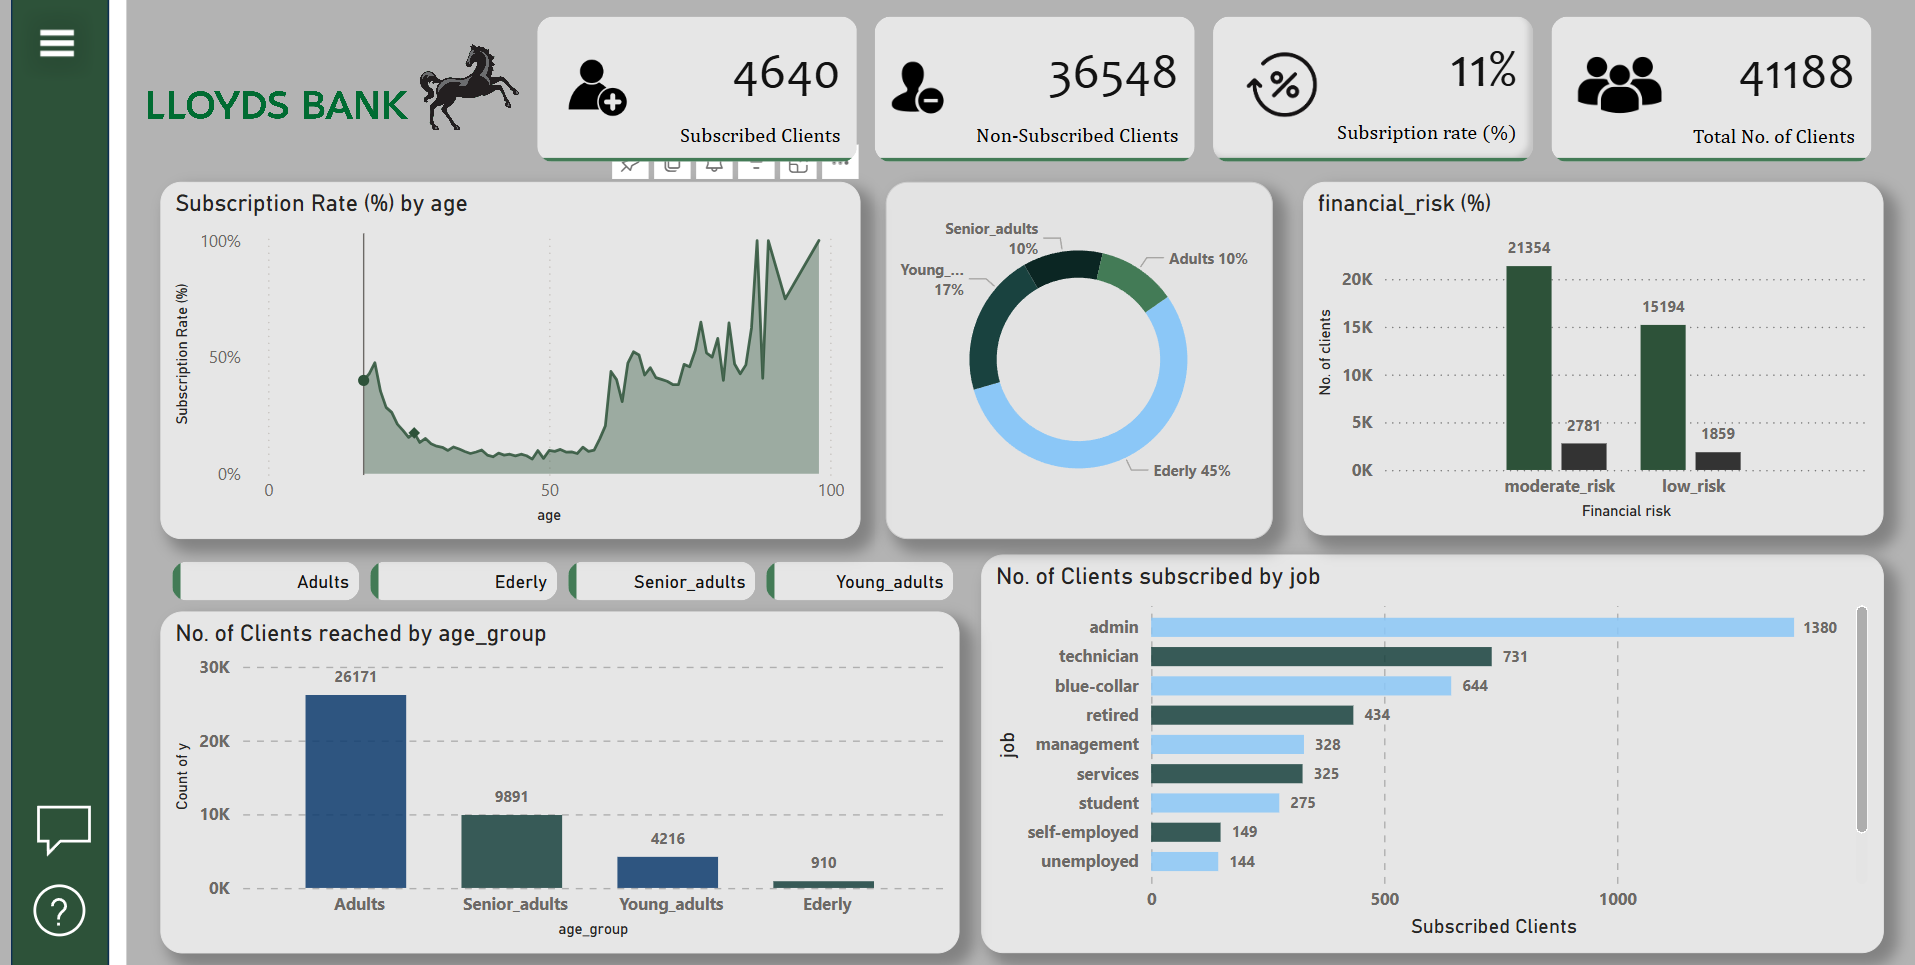

This screenshot's page, from the dashboard's own definition file:
{"tool":"powerbi","page":{"name":"Client_over_view","canvas":[1370,700],"ordinal":0},"visuals":[{"type":"shape","title":"side bar","box":[0,0,70.7,719.1],"z":0,"group":"g3"},{"type":"pieChart","fields":{"Y":["subscriptions.Subscription Rate (%)"],"Category":["bank_marketing_campaign.age_group"]},"box":[631.5,133.9,279.3,257.5],"z":0,"group":"g2"},{"type":"clusteredBarChart","title":"No. of Clients subscribed by job","fields":{"Category":["bank_marketing_campaign.job"],"Y":["subscriptions.Subscribed Clients"]},"box":[700,402.4,651.1,287.5],"z":0,"group":"g1"},{"type":"actionButton","title":"Menu button","box":[0,0,70,66.9],"z":1000,"group":"g3"},{"type":"advancedSlicerVisual","fields":{"Values":["bank_marketing_campaign.age_group"]},"box":[111,402.4,575.3,38.4],"z":1000,"group":"g1"},{"type":"shape","title":"sb2","box":[71.3,0,12.1,699.7],"z":2000,"group":"g3"},{"type":"lineChart","fields":{"Y":["subscriptions.Subscription Rate (%)"],"Category":["bank_marketing_campaign.age"]},"box":[108.2,134.1,504.9,257.5],"z":3000,"group":"g2"},{"type":"actionButton","title":"Ques & Ans","box":[13.3,575.9,50.1,52.6],"z":3000,"group":"g3"},{"type":"group","id":"g1","title":"Group 2","box":[108.2,402.4,1242.9,287.5],"z":3750},{"type":"clusteredColumnChart","title":"No. of Clients reached by age_group","fields":{"Y":["CountNonNull(subscriptions.y)"],"Category":["bank_marketing_campaign.age_group"]},"box":[108.2,443.5,576.6,246.4],"z":4000,"group":"g1"},{"type":"actionButton","title":"Help","box":[10.3,628.5,50.1,59.9],"z":4000,"group":"g3"},{"type":"group","id":"g2","title":"Group 1","box":[108.2,133.9,1242.8,257.7],"z":4250},{"type":"image","box":[92.8,12.2,278.4,105],"z":4375},{"type":"cardVisual","fields":{"Data":["bank_marketing_campaign.SubscribedClients","bank_marketing_campaign.Non-SubscribedClients","bank_marketing_campaign.Subscription Rate(%)","CountNonNull(subscriptions.y)"]},"box":[374.5,8.5,976.8,115.3],"z":4500},{"type":"group","id":"g3","title":"Menu bar","box":[0,0,83.7,719.5],"z":6000},{"type":"clusteredColumnChart","title":"financial_risk (%)","fields":{"Category":["bank_marketing_campaign.financial_risk"],"Y":["subscriptions.Subscribed Clients","subscriptions.Non-Subscribed Clients"]},"box":[932.3,134.1,418.6,254.9],"z":7000,"group":"g2"}]}

Visuals, with their boxes in screenshot pixels (x1, y1, x2, y2), scaled from the page's 1370x700 canvas onto the 1915x965 screenshot:
"side bar" shape: Rect(0, 0, 99, 964)
pieChart - subscriptions.Subscription Rate (%) x bank_marketing_campaign.age_group: Rect(883, 185, 1273, 540)
"No. of Clients subscribed by job" clusteredBarChart: Rect(978, 555, 1889, 951)
"Menu button" actionButton: Rect(0, 0, 98, 92)
advancedSlicerVisual - bank_marketing_campaign.age_group: Rect(155, 555, 959, 608)
"sb2" shape: Rect(100, 0, 117, 964)
lineChart - subscriptions.Subscription Rate (%) x bank_marketing_campaign.age: Rect(151, 185, 857, 540)
"Ques & Ans" actionButton: Rect(19, 794, 89, 866)
"Group 2" group: Rect(151, 555, 1889, 951)
"No. of Clients reached by age_group" clusteredColumnChart: Rect(151, 611, 957, 951)
"Help" actionButton: Rect(14, 866, 84, 949)
"Group 1" group: Rect(151, 185, 1888, 540)
image: Rect(130, 17, 519, 162)
cardVisual - bank_marketing_campaign.SubscribedClients x bank_marketing_campaign.Non-SubscribedClients: Rect(523, 12, 1889, 171)
"Menu bar" group: Rect(0, 0, 117, 964)
"financial_risk (%)" clusteredColumnChart: Rect(1303, 185, 1888, 536)
